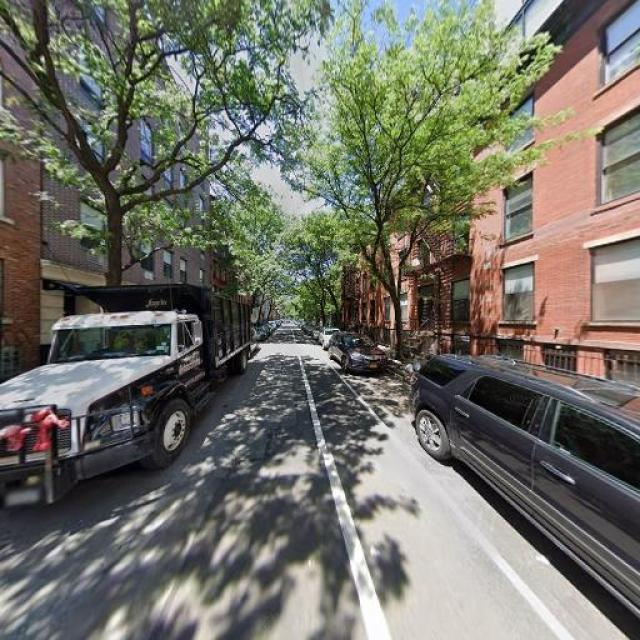Building: (454, 1, 640, 409), (1, 1, 48, 393)
